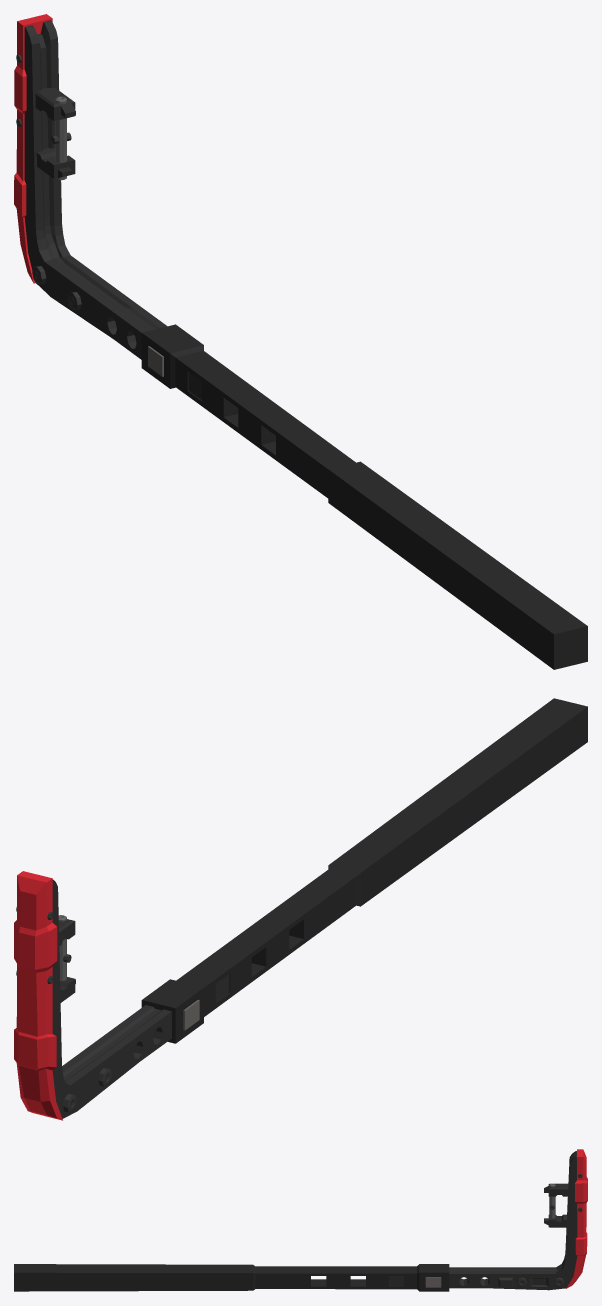
File: DSZiplineAnchor.fbx
The picture shows the model from 3 angles, top to bottom: view 1: azimuth 30°, elevation 25°; view 2: azimuth 150°, elevation 25°; view 3: azimuth 270°, elevation 25°; orthographic projection. The views are drawn at different scales.
Visible parts, largest first — view 1: DSZiplineAnchorModel; view 2: DSZiplineAnchorModel; view 3: DSZiplineAnchorModel.
Part boxes in pixels (left/top/right/bottom): DSZiplineAnchorModel: left=14, top=14, right=587, bottom=669; DSZiplineAnchorModel: left=14, top=698, right=587, bottom=1120; DSZiplineAnchorModel: left=14, top=1149, right=587, bottom=1291.
Size of the model in its own units: 0.1097 by 0.6997 by 2.72.
